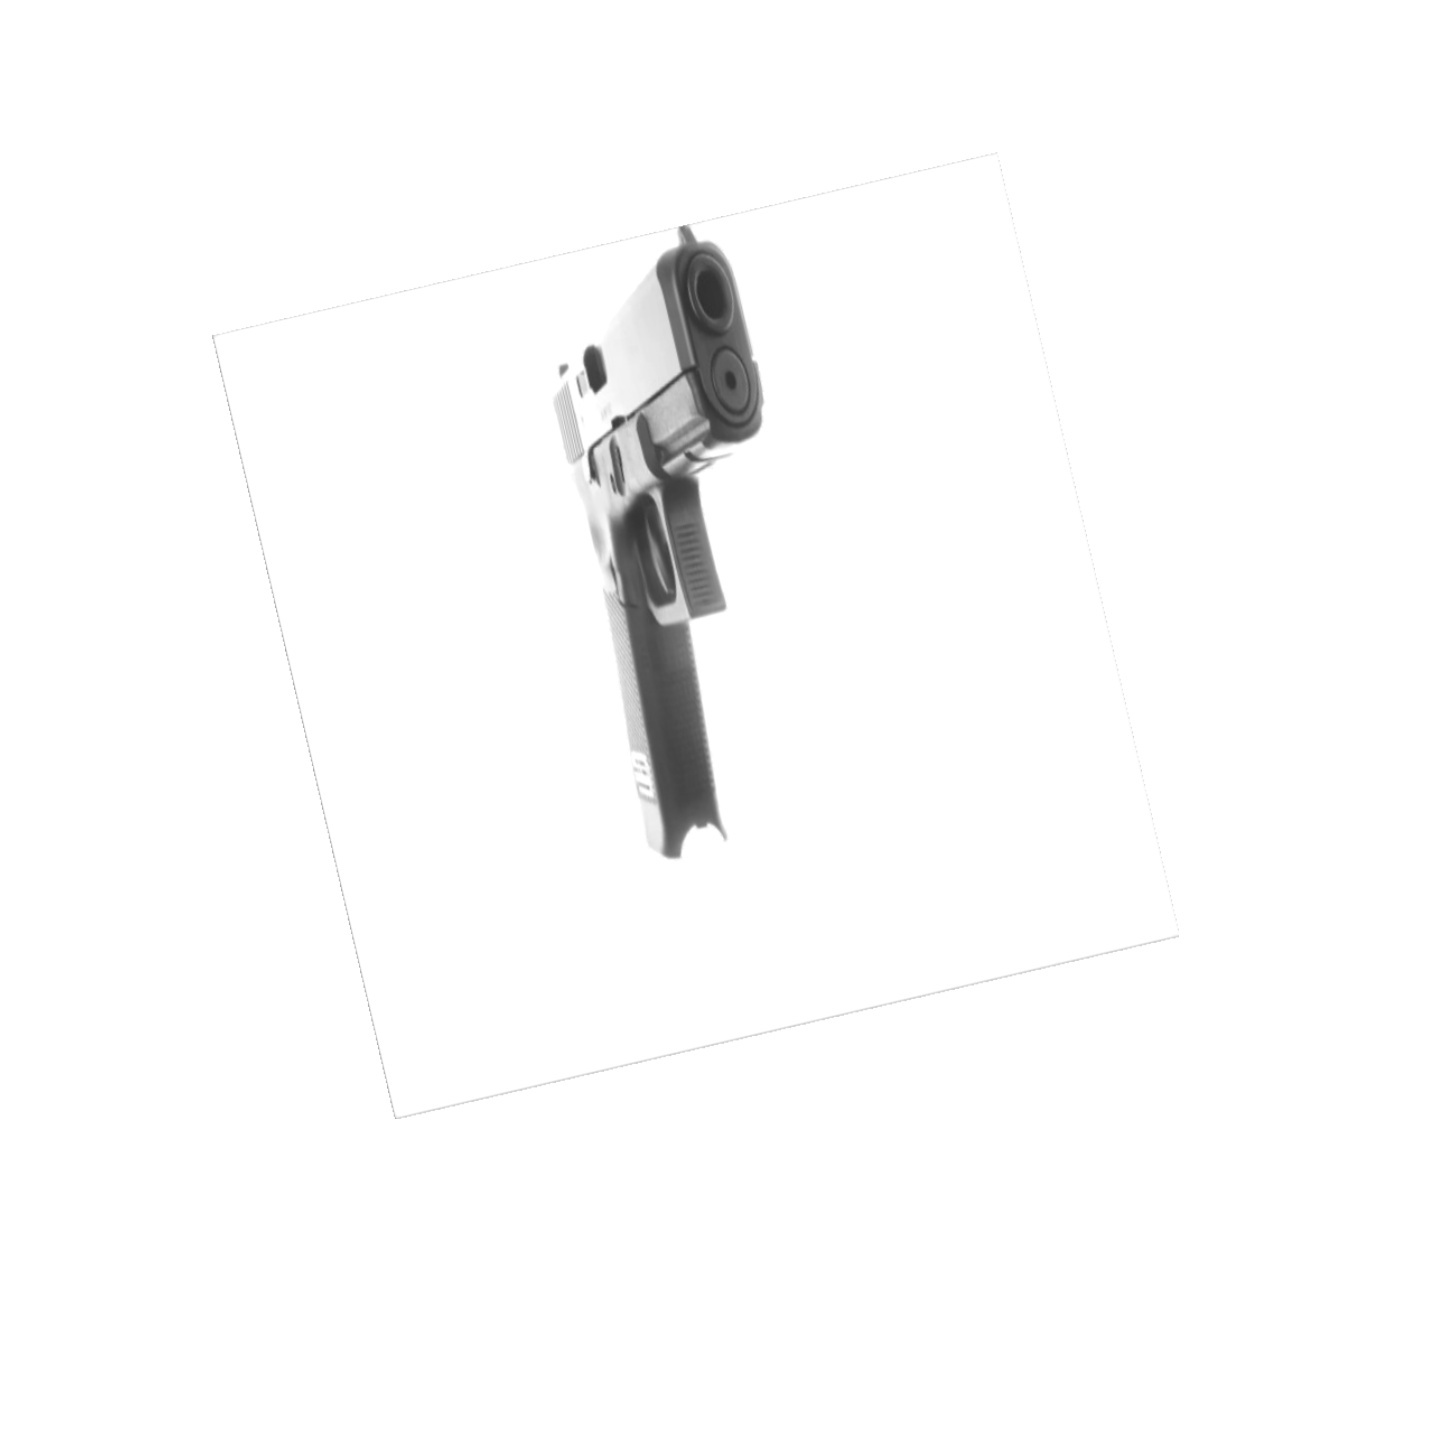gun: (550, 224, 809, 863)
